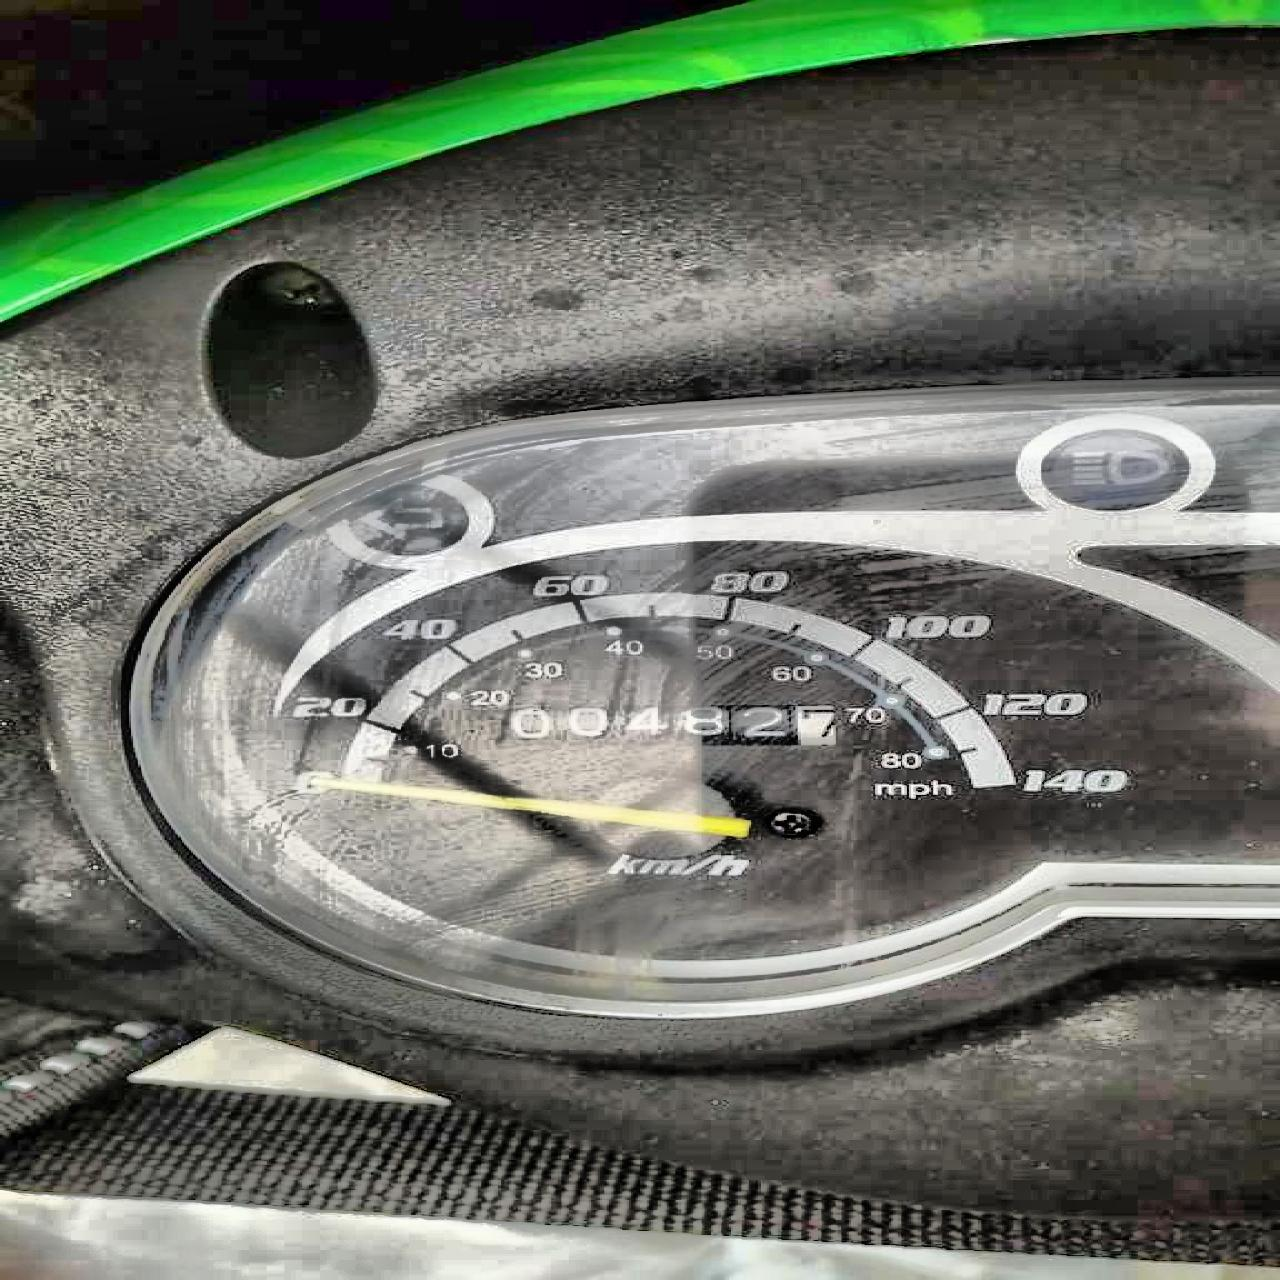0: (563, 703, 608, 737), (506, 704, 553, 737)
2: (735, 703, 789, 737)
4: (620, 704, 669, 736)
7: (798, 704, 840, 737)
8: (678, 703, 727, 736)
odometer: (474, 697, 846, 753)
